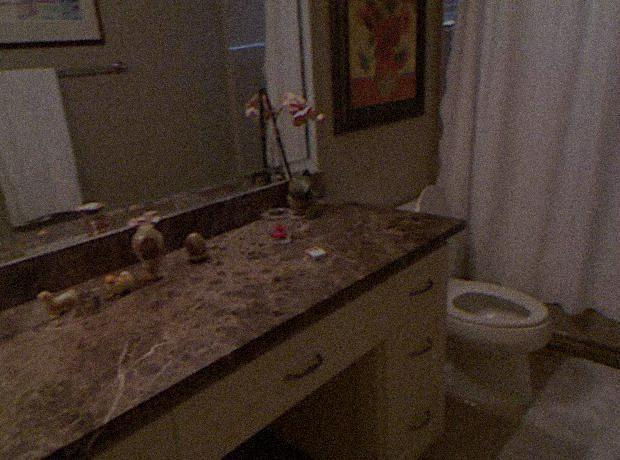Ducha: (445, 7, 613, 358)
Sanitario: (378, 171, 561, 414)
